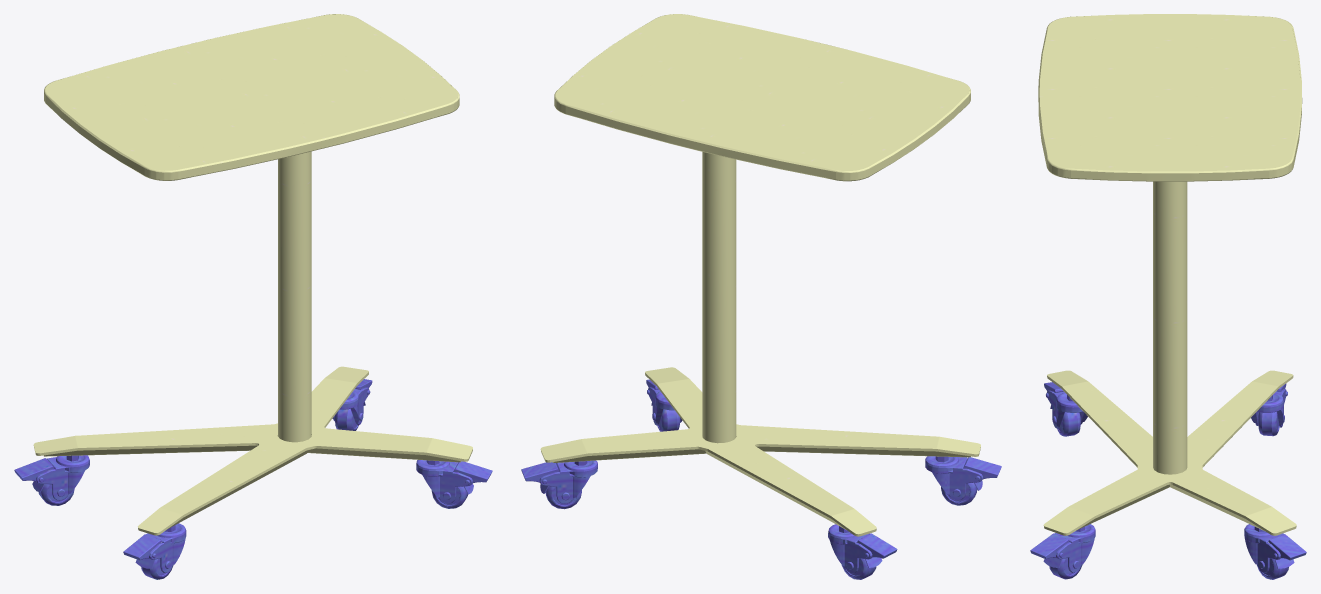
3 renders of one model, left to right at view 1: azimuth 30°, elevation 25°; view 2: azimuth 150°, elevation 25°; view 3: azimuth 270°, elevation 25°, orthographic.
Visible parts, largest first — view 1: dc991d51-c3d0-4c87-b9f5-bd79ee95dd7a, 035f2f1b-58c2-4fd0-8aba-e36b675ca6eb, d49351a2-68b0-4966-bbea-ca5dc427a979, 72c1d7d6-1918-4bb6-a51d-bf51e825354e; view 2: dc991d51-c3d0-4c87-b9f5-bd79ee95dd7a, 035f2f1b-58c2-4fd0-8aba-e36b675ca6eb, d49351a2-68b0-4966-bbea-ca5dc427a979, 72c1d7d6-1918-4bb6-a51d-bf51e825354e; view 3: dc991d51-c3d0-4c87-b9f5-bd79ee95dd7a, 035f2f1b-58c2-4fd0-8aba-e36b675ca6eb, d49351a2-68b0-4966-bbea-ca5dc427a979, 72c1d7d6-1918-4bb6-a51d-bf51e825354e.
Part boxes in pixels (left/top/right/bottom): dc991d51-c3d0-4c87-b9f5-bd79ee95dd7a: left=45, top=14, right=458, bottom=170; 035f2f1b-58c2-4fd0-8aba-e36b675ca6eb: left=33, top=151, right=472, bottom=535; d49351a2-68b0-4966-bbea-ca5dc427a979: left=14, top=379, right=492, bottom=579; 72c1d7d6-1918-4bb6-a51d-bf51e825354e: left=44, top=14, right=459, bottom=180; dc991d51-c3d0-4c87-b9f5-bd79ee95dd7a: left=555, top=14, right=969, bottom=170; 035f2f1b-58c2-4fd0-8aba-e36b675ca6eb: left=540, top=152, right=980, bottom=536; d49351a2-68b0-4966-bbea-ca5dc427a979: left=521, top=379, right=1001, bottom=579; 72c1d7d6-1918-4bb6-a51d-bf51e825354e: left=554, top=14, right=970, bottom=181; dc991d51-c3d0-4c87-b9f5-bd79ee95dd7a: left=1040, top=14, right=1300, bottom=171; 035f2f1b-58c2-4fd0-8aba-e36b675ca6eb: left=1043, top=181, right=1296, bottom=535; d49351a2-68b0-4966-bbea-ca5dc427a979: left=1030, top=382, right=1306, bottom=579; 72c1d7d6-1918-4bb6-a51d-bf51e825354e: left=1038, top=15, right=1302, bottom=181.
Size of the model in its own units: 0.5906 by 0.6409 by 0.3889.
Materials: 2 (2 with a texture image).
